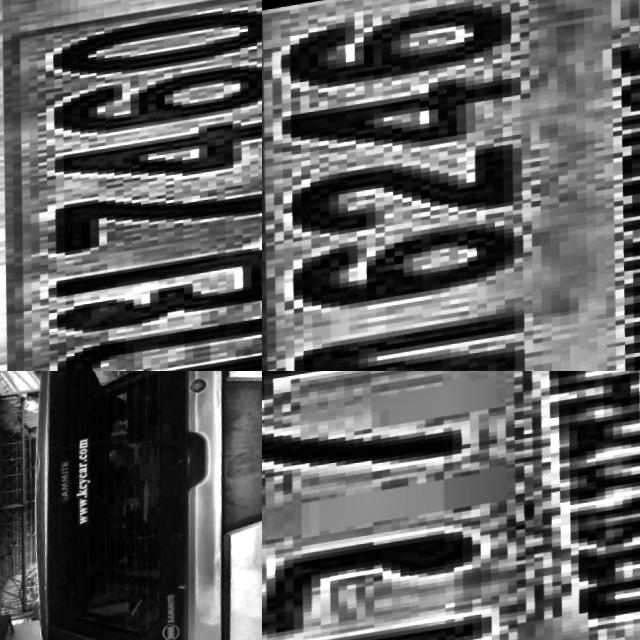license-plate: (262, 0, 640, 371), (262, 371, 640, 640), (0, 0, 262, 371)
